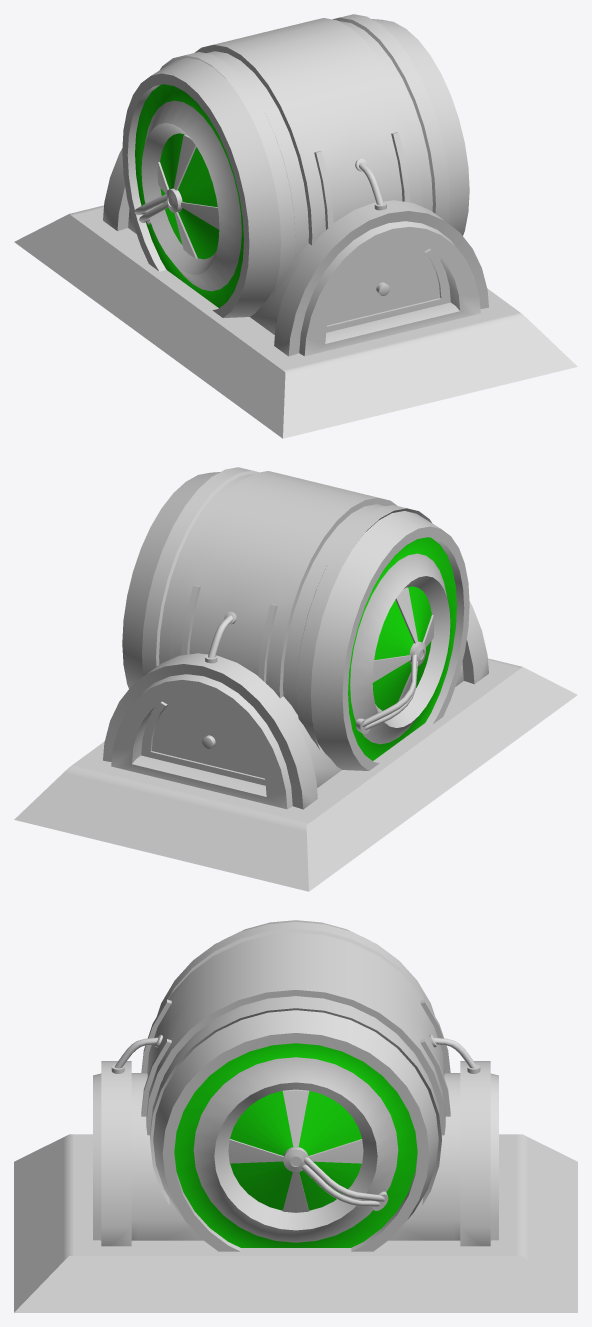
The model's file is module generateur.fbx.
3 views of the same model, one above another, from view 1: azimuth 30°, elevation 25°; view 2: azimuth 150°, elevation 25°; view 3: azimuth 270°, elevation 25° (orthographic). The views are drawn at different scales.
Visible parts, largest first — view 1: joined; view 2: joined; view 3: joined.
Part boxes in pixels (box(x1,y1,x2,y2)): joined: box(14, 14, 577, 438); joined: box(14, 467, 577, 891); joined: box(14, 920, 577, 1312).
Bounding box in the file's own units: 560 × 355 × 302.
